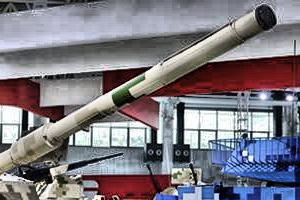tanks: (1, 9, 274, 200)
